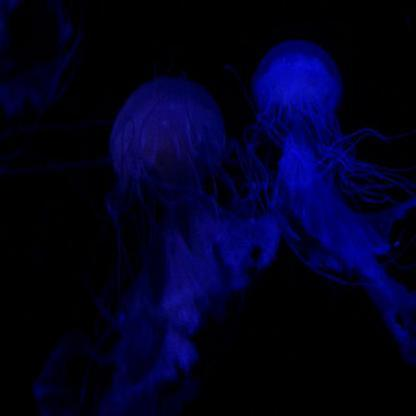Mosaic: (105, 77, 281, 406), (254, 43, 406, 323)
